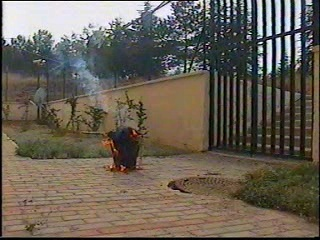smoke: (67, 54, 112, 105)
